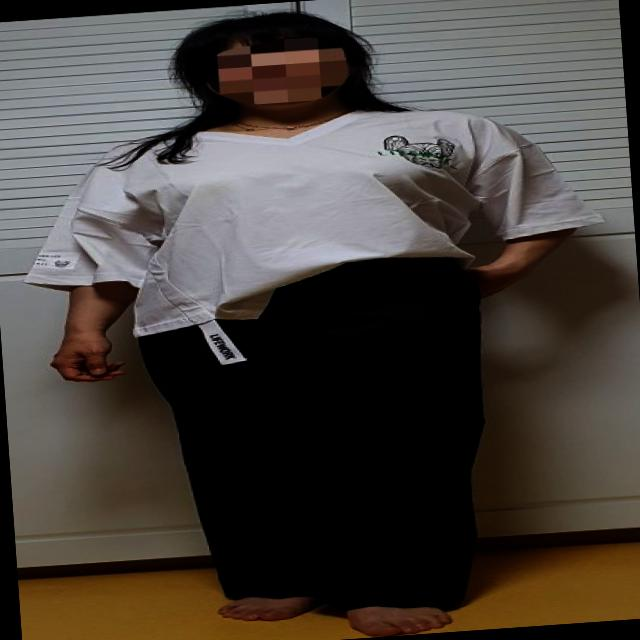shortsleeve: (19, 92, 581, 341)
slacks: (144, 250, 506, 628)
